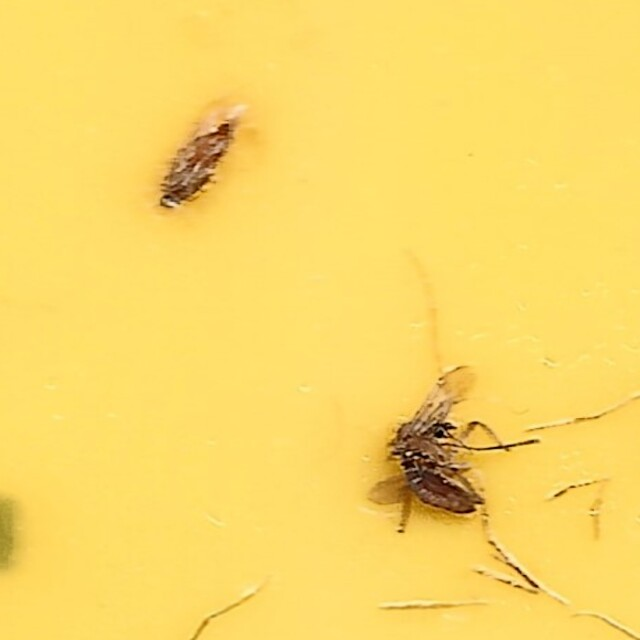Nematocera: (349, 364, 501, 530)
Trichoptera: (139, 110, 245, 211)
